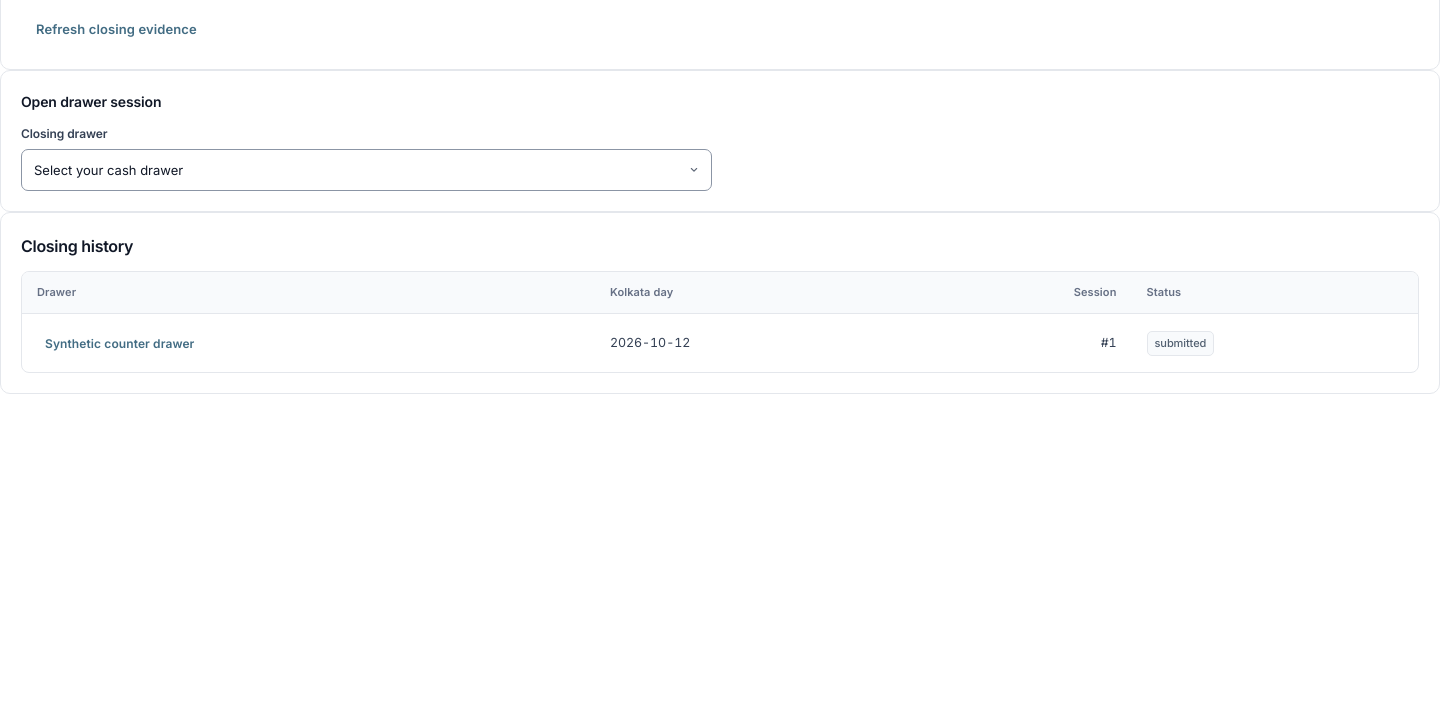
cash closing controlled transport and evidence validation › approves only exact opening separately while preserving ending self-review restriction
This screenshot has width=1440, height=709.
Click the button with aria-label "Synthetic counter drawer ·": (120, 343) [37,326,202,360]
(page scrolled)
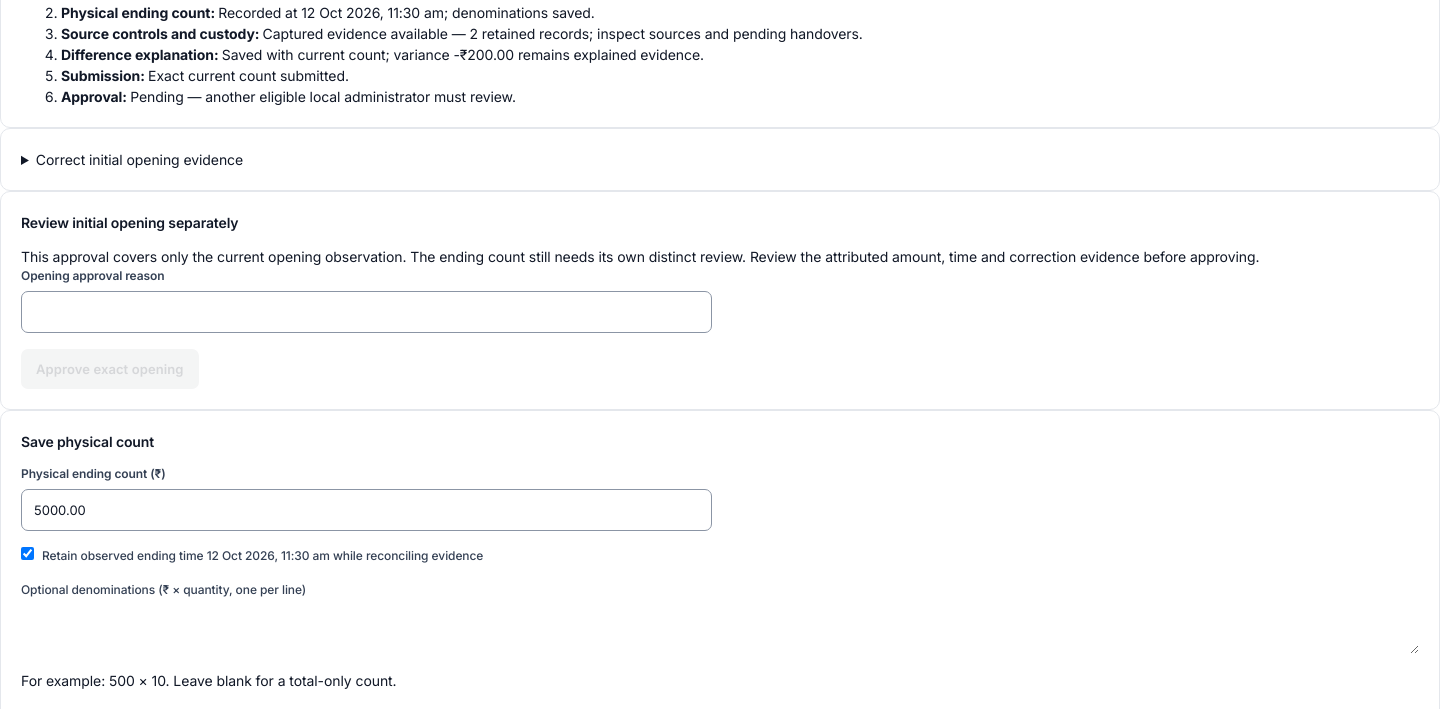
In the field labelled "Opening approval reason": (366, 312) [21,291,712,333], type "Independently checked the opening sheet authored by A"
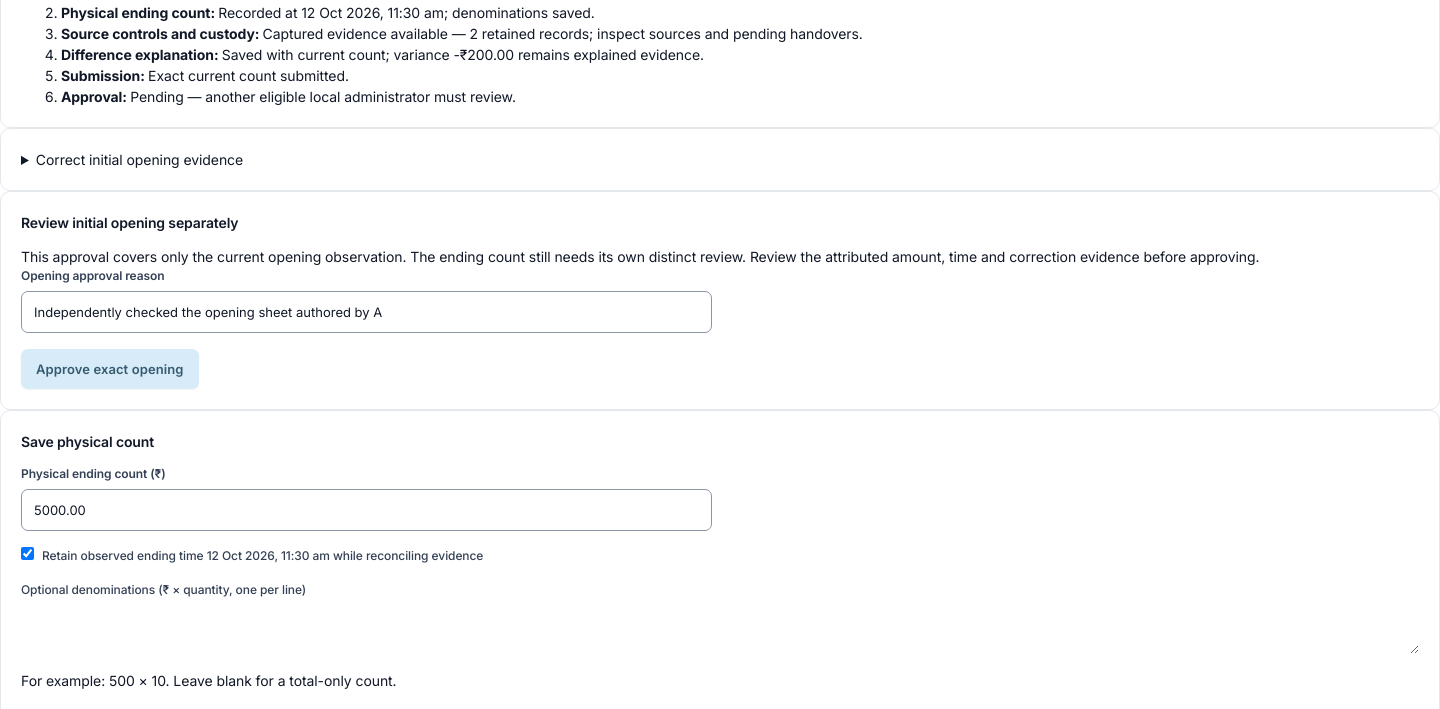
Click the button "Approve exact opening": (110, 369) [21,349,198,389]
(page scrolled)
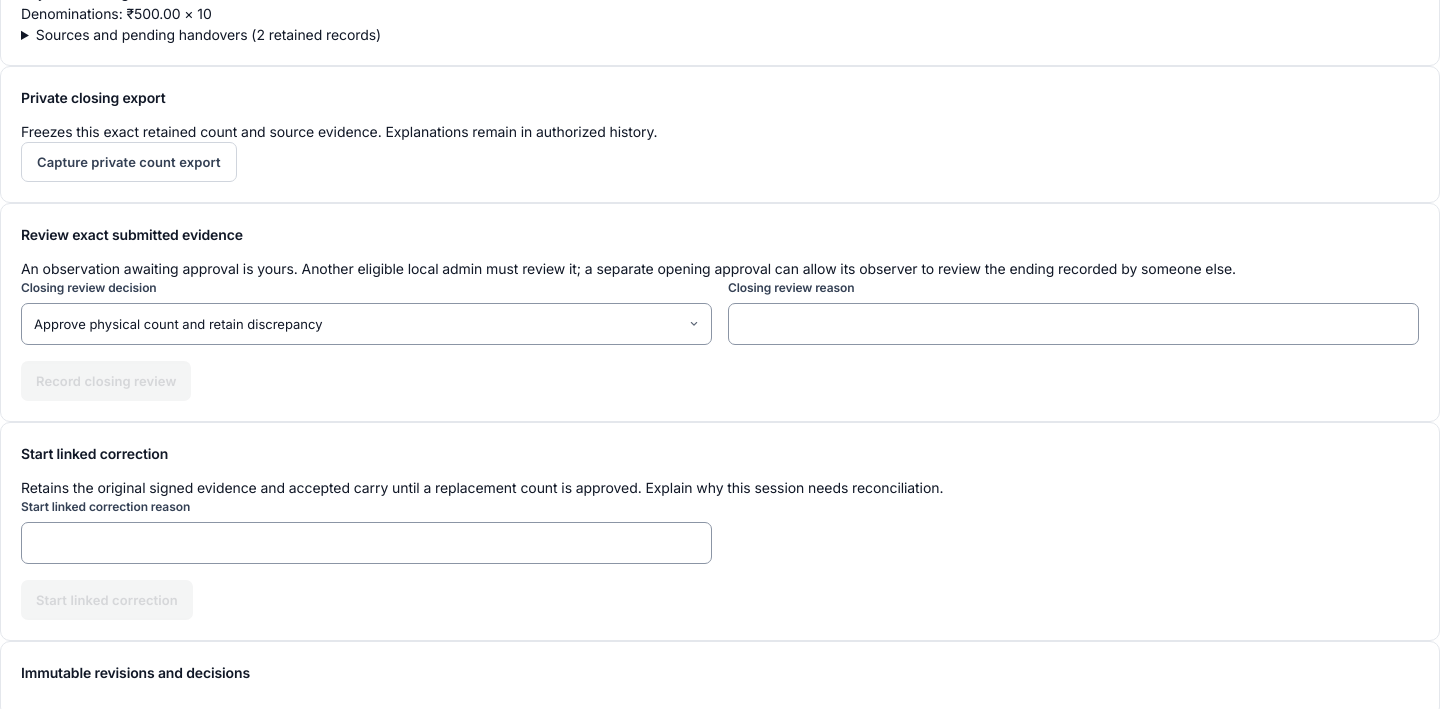
Now the button "Record closing review" is disabled, box [21,361,191,401]
Now the button "Approve exact opening" is gone
